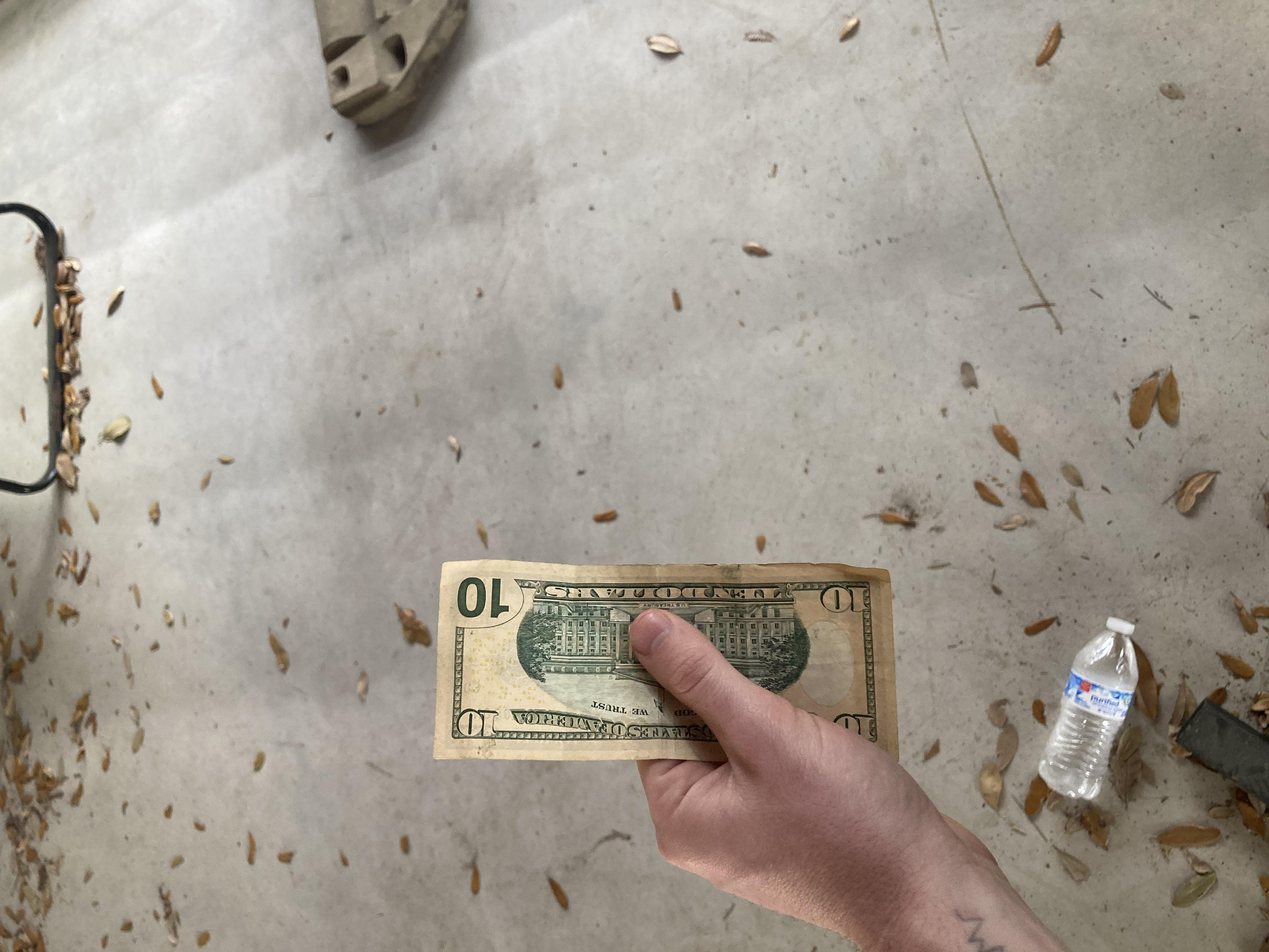ten-back: (251, 326, 525, 674)
